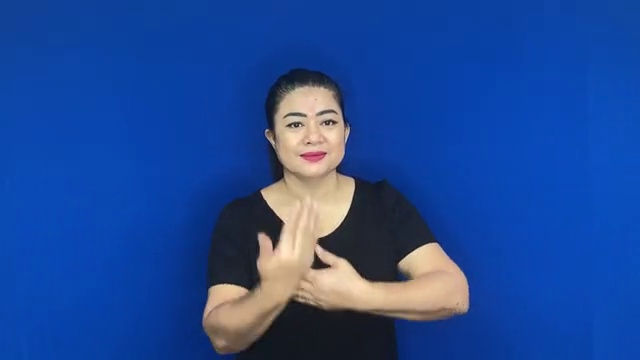bread: (248, 192, 372, 320)
